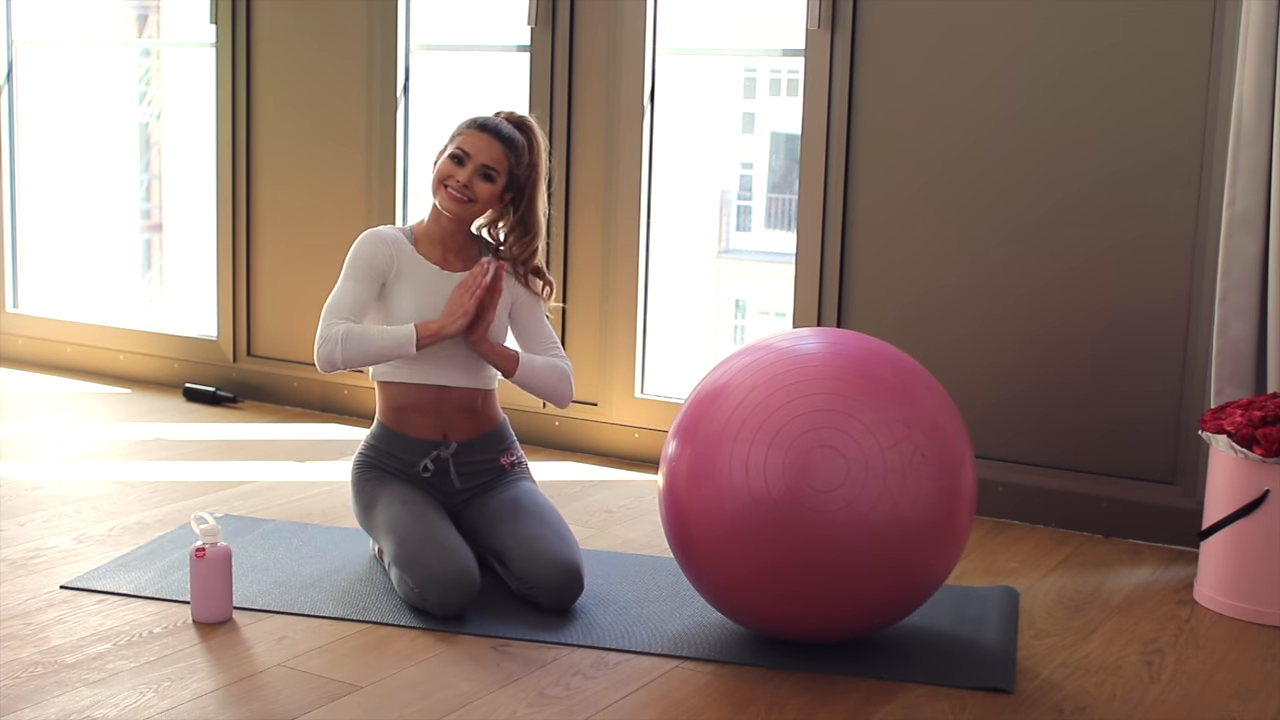yogaball: (652, 326, 986, 653)
